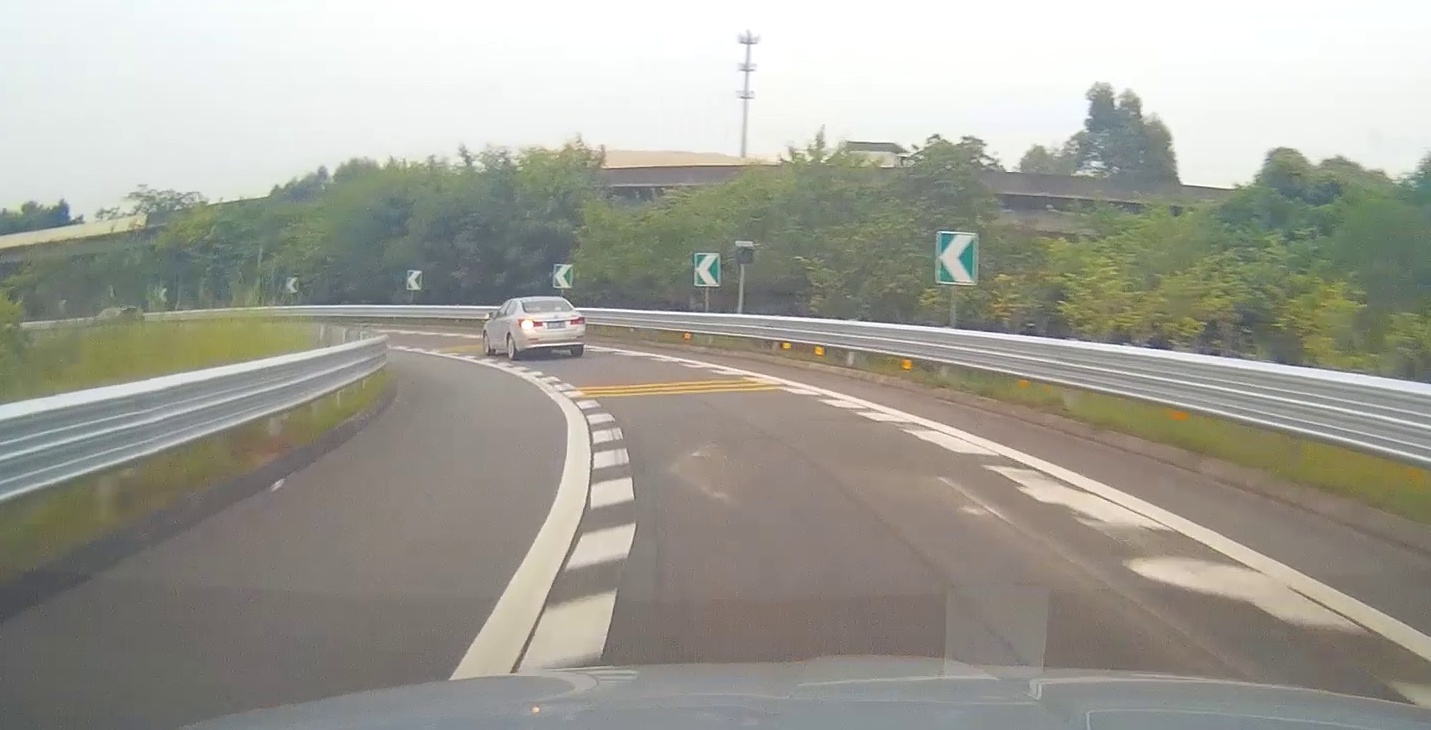L_light: (518, 319, 542, 328)
R_light: (571, 317, 585, 324)
T_light: (541, 300, 551, 302)
day-left: (516, 297, 586, 359)
